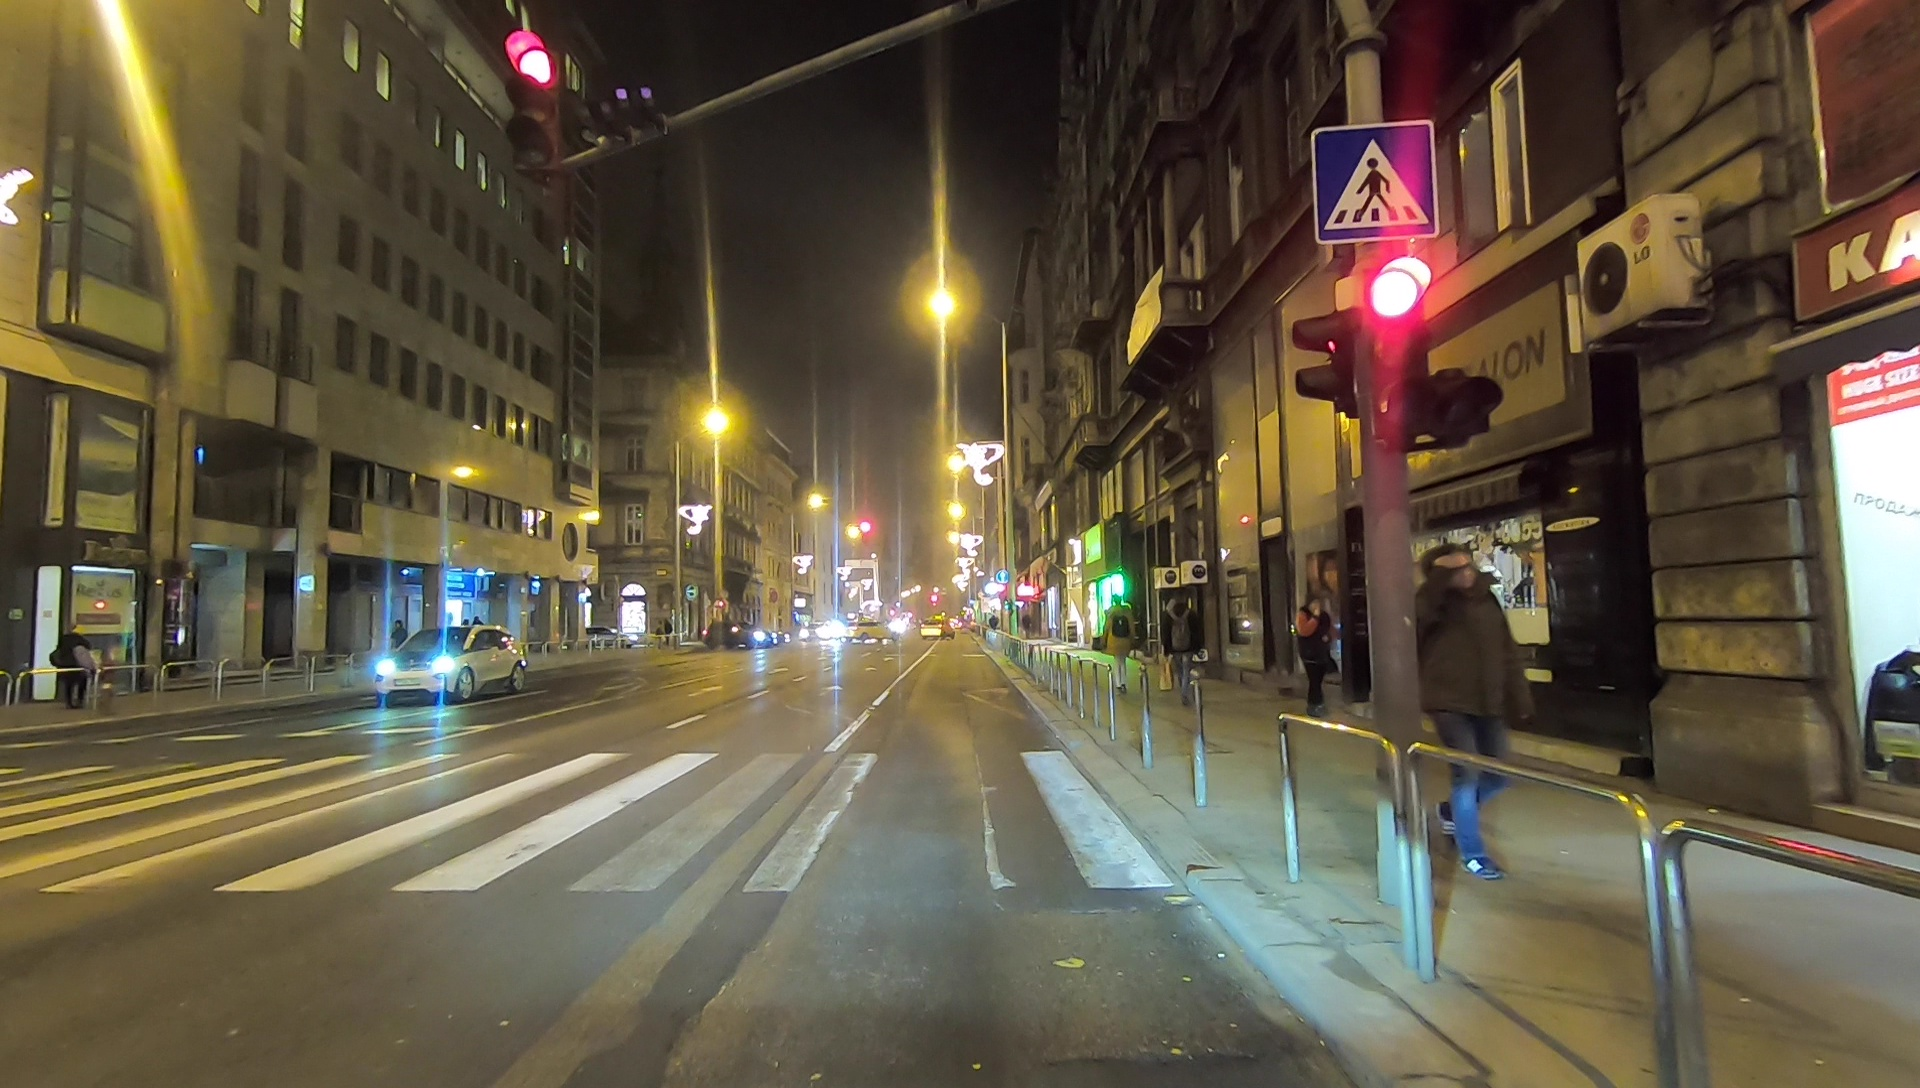person: (1414, 545, 1515, 884), (1295, 587, 1338, 721), (1158, 589, 1201, 706), (52, 623, 97, 713), (1099, 593, 1134, 689)
